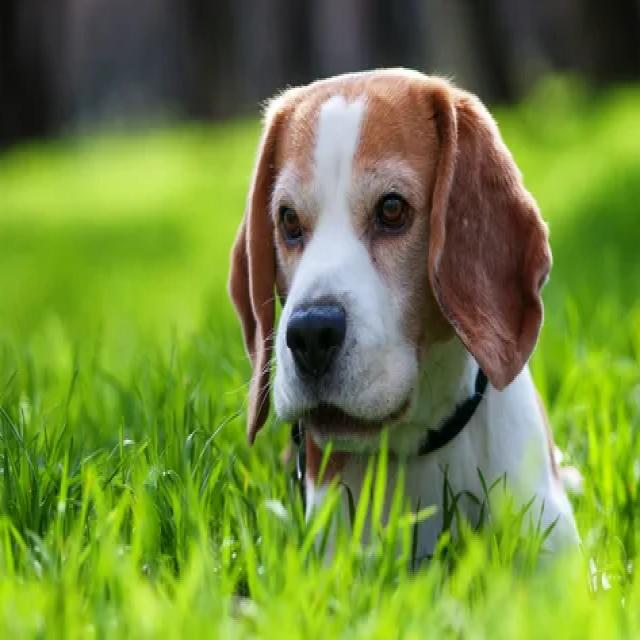Dog: (245, 63, 555, 442)
